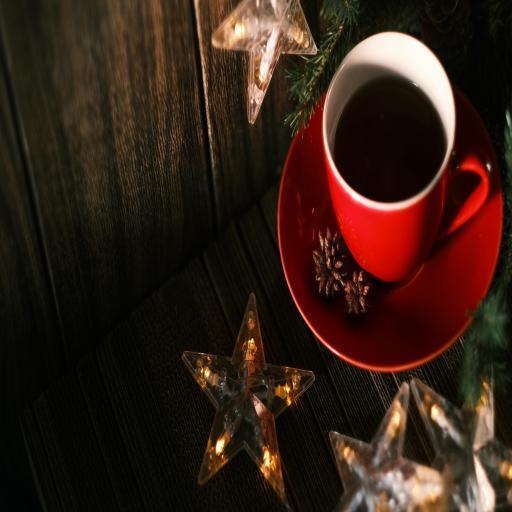cup: (322, 29, 490, 289)
